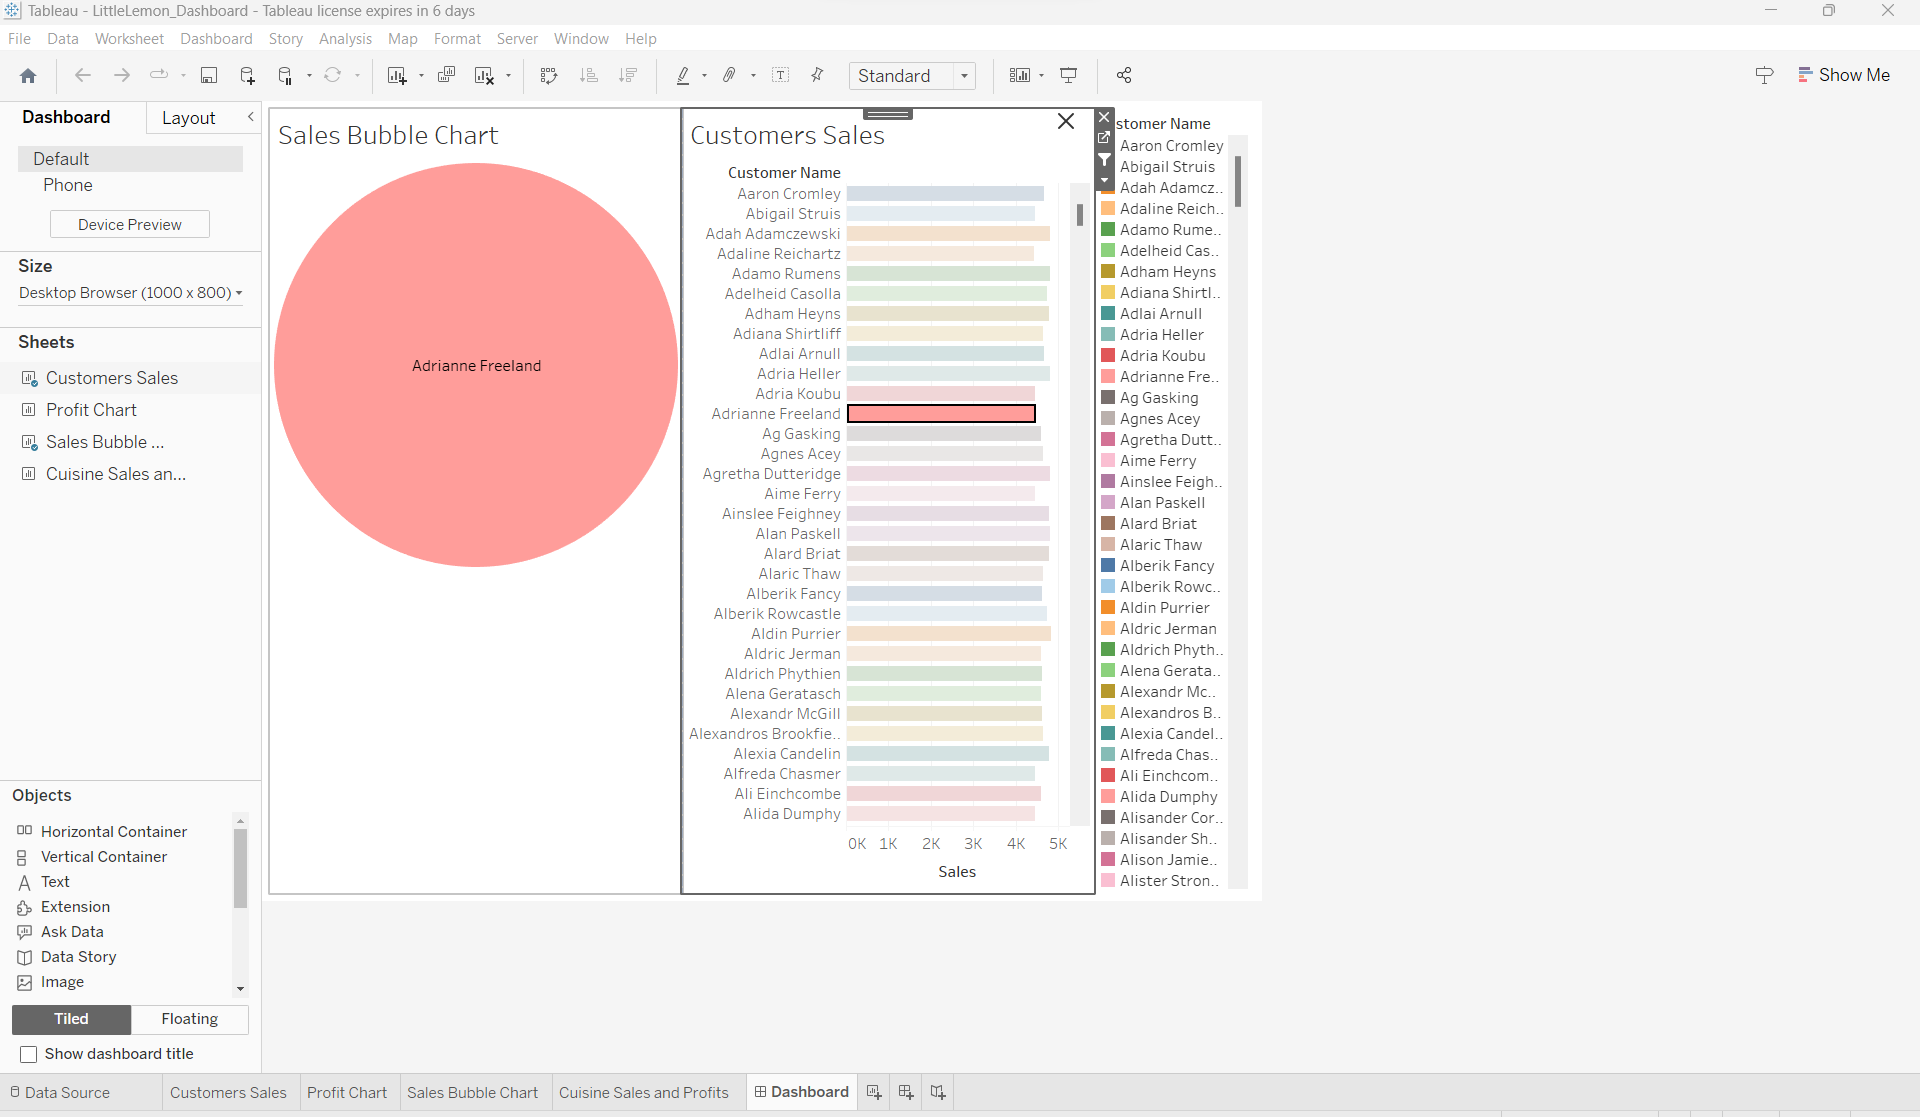

The dashboard page shown, as its layout file describes it:
{"tool":"tableau","page":{"name":"Dashboard","canvas":[1000,800],"ordinal":0},"visuals":[{"type":"worksheet","title":"Sales Bubble Chart","mark":"Circle","box":[8,8,412,784]},{"type":"worksheet","title":"Customers Sales","mark":"Automatic","rows":["Customer Name"],"cols":["Sales"],"box":[420,8,412,784]},{"type":"dashboard-object","box":[792,8,24,24]},{"type":"legend","title":"Customers Sales","param":"[federated.0epuwfo1bhu5kx1fu8trs1b6l47w].[none:Customer Name:nk]","box":[832,8,160,784]}]}

Visuals, with their boxes on the page's 1000x800 design canvas (x1, y1, x2, y2). These are canvas units, not pixel positions in the 1920x1117 screenshot, which may show the page scaled, cropped or inside an application window:
"Sales Bubble Chart" worksheet (Circle marks): [8, 8, 420, 792]
"Customers Sales" worksheet: [420, 8, 832, 792]
dashboard-object: [792, 8, 816, 32]
"Customers Sales" legend: [832, 8, 992, 792]
